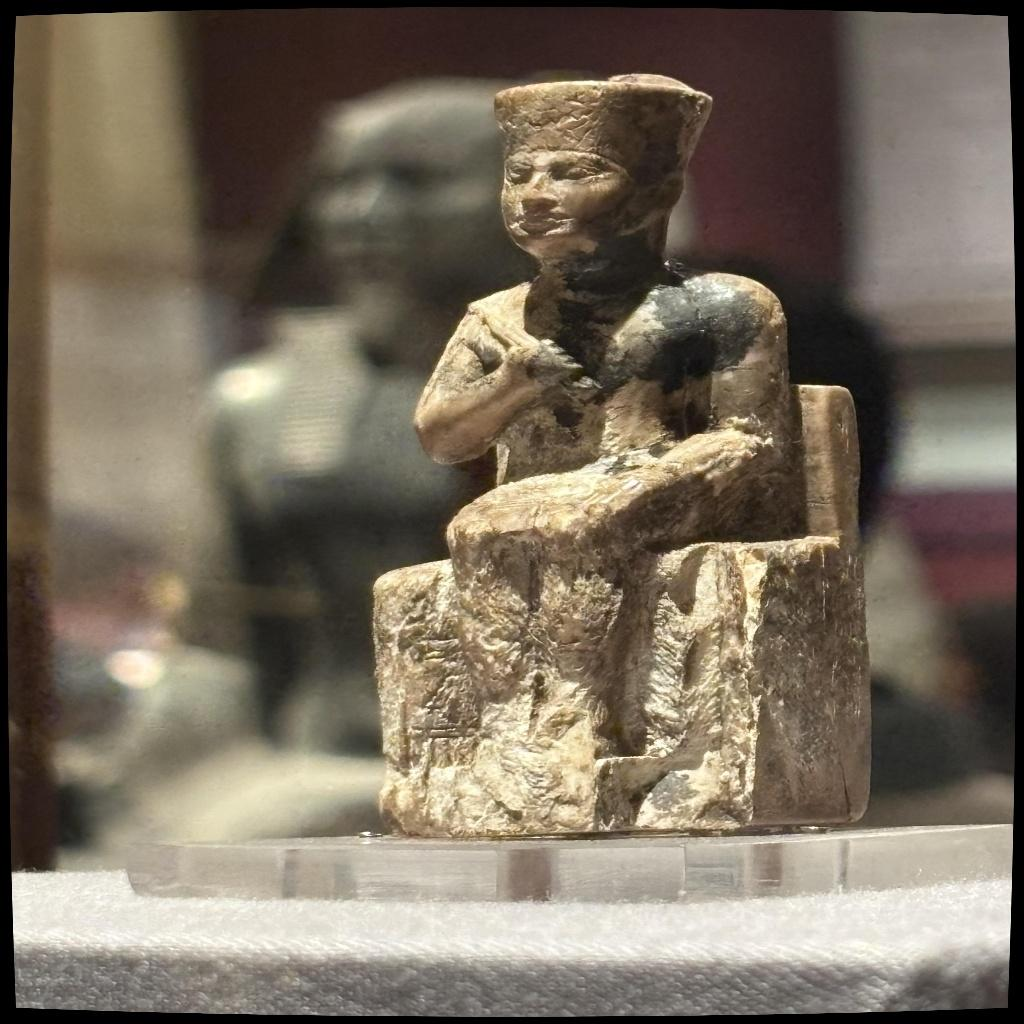Statue of Khufu: (368, 79, 884, 824)
